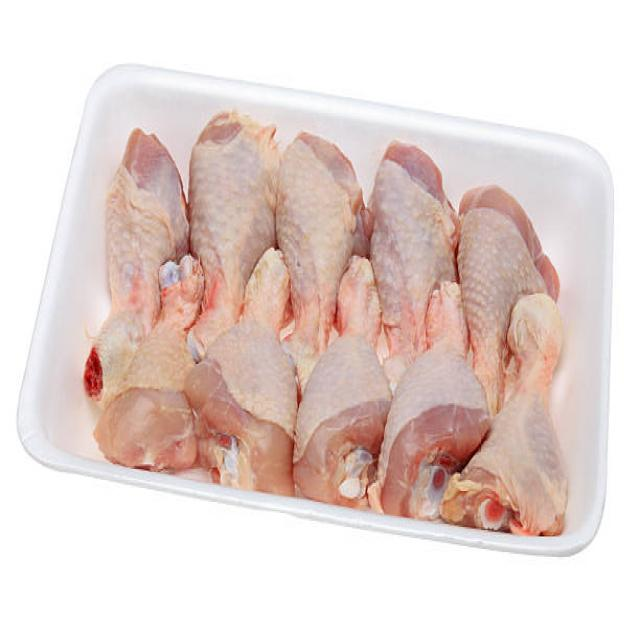Chicken: (80, 126, 172, 382), (478, 302, 570, 555), (195, 270, 295, 499), (102, 254, 208, 468), (294, 275, 391, 502), (385, 304, 480, 522), (185, 110, 271, 331), (372, 139, 448, 360), (282, 124, 349, 370), (456, 178, 527, 394)
